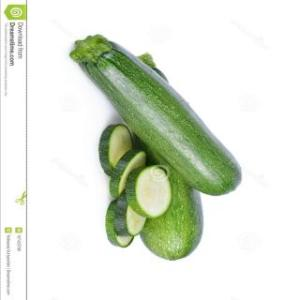zucchini: (72, 42, 243, 192)
